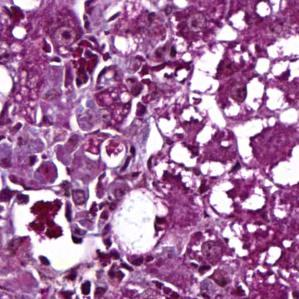ballooning: (109, 186, 171, 256), (207, 176, 268, 219)
